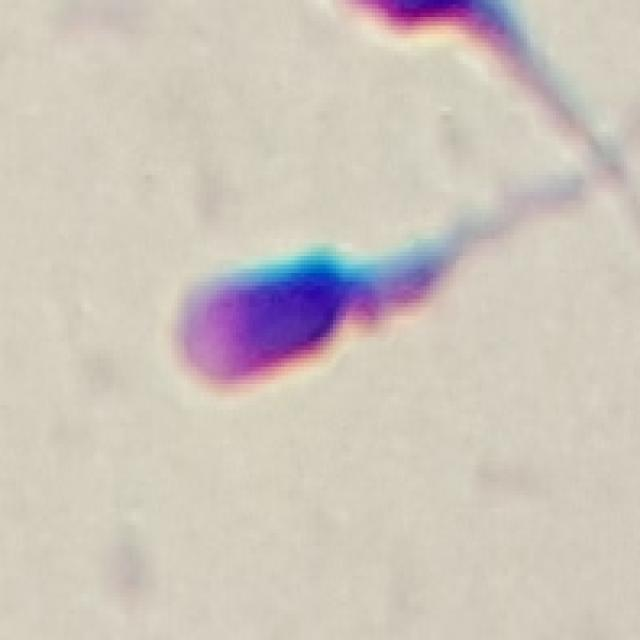abnormal sperm: (177, 202, 517, 416)
